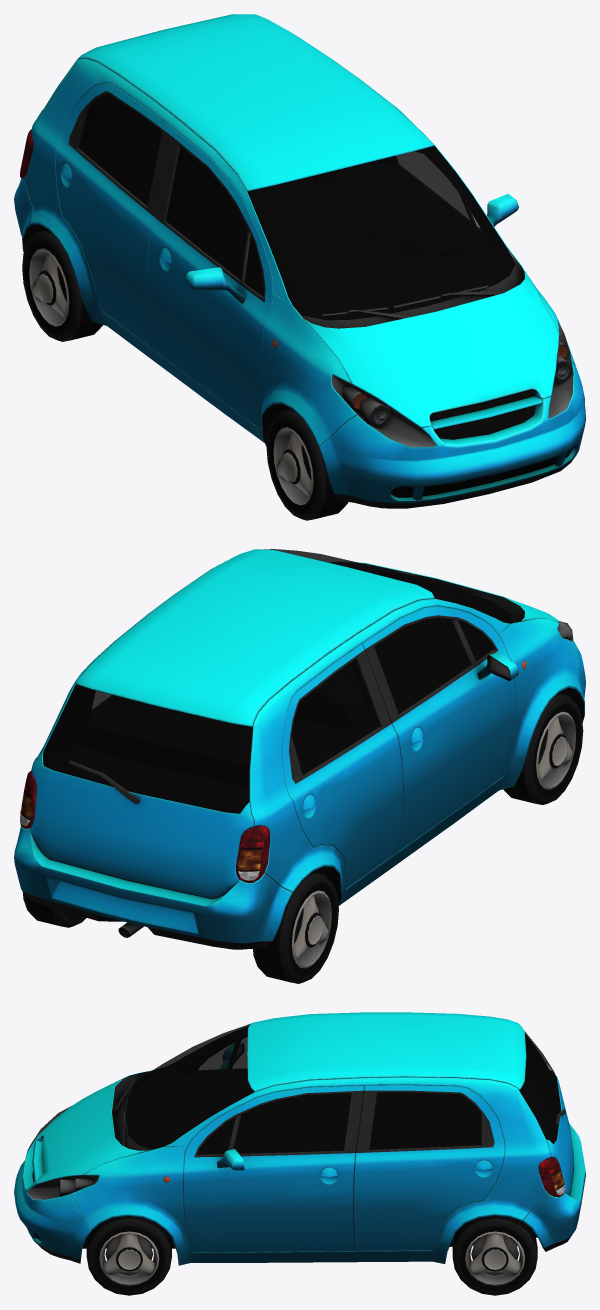
File: compact.glb
3 views of the same model, one above another, from view 1: azimuth 30°, elevation 25°; view 2: azimuth 150°, elevation 25°; view 3: azimuth 270°, elevation 25° (orthographic). The views are drawn at different scales.
Visible parts, largest first — view 1: Compact Body_Body_0, Compact Body_Glass_0, Wheel_C003_Wheel_0, Wheel_C002_Wheel_0, Compact Body_Optics_0; view 2: Compact Body_Body_0, Compact Body_Glass_0, Wheel_C002_Wheel_0, Wheel_C003_Wheel_0, Compact Body_Optics_0, Wheel_C001_Wheel_0; view 3: Compact Body_Body_0, Compact Body_Glass_0, Wheel_C001_Wheel_0, Wheel_C_Wheel_0, Compact Body_Optics_0.
Part boxes in pixels (x1,y1,x2,y2): Compact Body_Body_0: [14, 14, 585, 508]; Compact Body_Glass_0: [58, 85, 573, 447]; Wheel_C003_Wheel_0: [266, 409, 348, 520]; Wheel_C002_Wheel_0: [22, 229, 102, 341]; Compact Body_Optics_0: [20, 129, 571, 426]; Compact Body_Body_0: [14, 549, 585, 949]; Compact Body_Glass_0: [43, 549, 573, 813]; Wheel_C002_Wheel_0: [253, 872, 338, 983]; Wheel_C003_Wheel_0: [503, 693, 583, 804]; Compact Body_Optics_0: [20, 660, 526, 883]; Wheel_C001_Wheel_0: [22, 891, 86, 927]; Compact Body_Body_0: [14, 1012, 585, 1265]; Compact Body_Glass_0: [27, 1024, 560, 1199]; Wheel_C001_Wheel_0: [452, 1215, 537, 1295]; Wheel_C_Wheel_0: [86, 1216, 171, 1295]; Compact Body_Optics_0: [57, 1157, 564, 1197].
Size of the model in its own units: 1.61 by 1.32 by 3.26.
4 materials, 3 textured.
